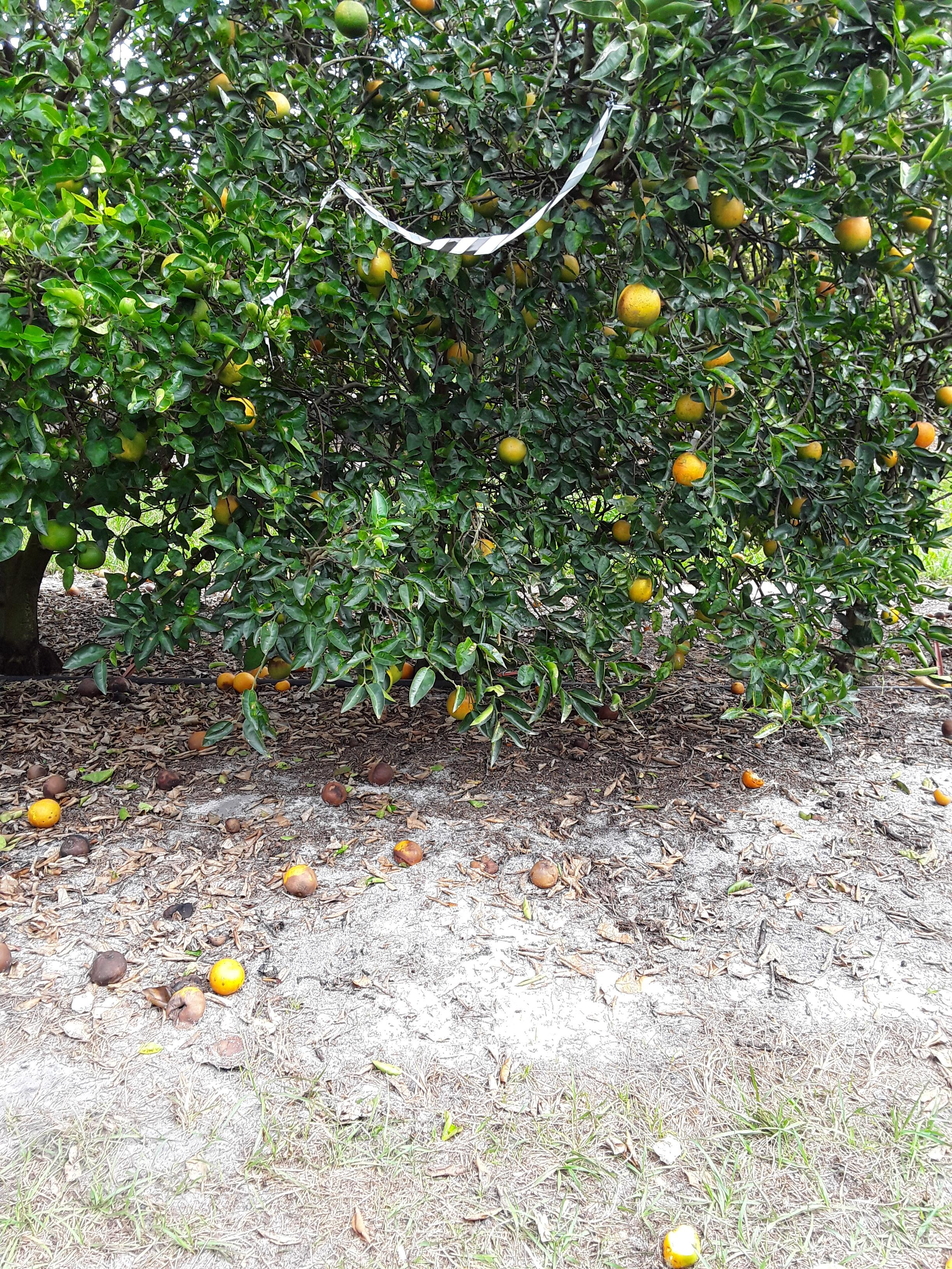fruit_on_ground: (614, 280, 663, 328), (161, 250, 211, 294), (354, 245, 396, 286), (831, 212, 873, 253), (331, 0, 373, 40), (797, 3, 845, 36), (48, 156, 88, 195), (708, 192, 747, 232), (462, 180, 503, 217), (220, 395, 258, 433), (670, 449, 709, 486), (108, 427, 148, 463), (215, 350, 255, 386), (41, 517, 80, 553), (209, 14, 249, 49), (879, 242, 917, 278), (355, 662, 394, 697), (252, 87, 289, 122), (898, 201, 936, 235), (461, 56, 498, 90), (212, 181, 249, 214), (445, 686, 479, 721), (408, 304, 444, 337), (673, 390, 708, 423), (693, 593, 730, 624), (748, 1, 802, 22), (705, 379, 739, 412), (211, 493, 245, 526), (698, 341, 734, 371), (362, 74, 395, 106), (505, 258, 538, 290), (496, 433, 528, 466), (552, 251, 583, 284), (74, 540, 107, 571), (621, 194, 655, 224), (524, 210, 558, 240), (754, 293, 785, 324), (905, 418, 936, 449), (444, 339, 476, 369), (206, 68, 238, 97), (418, 77, 447, 108), (689, 239, 716, 272), (661, 89, 691, 117), (809, 342, 840, 369), (786, 492, 814, 521), (627, 574, 655, 603), (520, 87, 550, 114), (794, 436, 824, 463), (567, 193, 599, 217), (265, 654, 292, 682), (410, 88, 439, 114), (302, 332, 329, 358), (679, 169, 707, 194), (308, 488, 336, 513), (812, 276, 840, 301), (876, 444, 902, 470), (472, 535, 499, 559), (610, 517, 634, 543), (517, 305, 541, 330), (455, 248, 483, 269), (623, 319, 647, 343), (877, 601, 902, 624), (382, 660, 404, 686), (424, 208, 448, 230), (933, 382, 952, 409), (802, 245, 824, 268), (836, 454, 859, 475), (667, 648, 688, 671), (598, 321, 622, 341), (70, 383, 92, 404), (395, 659, 415, 682), (407, 0, 437, 14), (760, 536, 780, 557), (388, 161, 407, 182), (727, 549, 747, 567), (674, 637, 694, 654), (737, 526, 756, 543), (527, 594, 546, 611), (273, 610, 290, 626)
fruit_on_tree: (659, 1221, 704, 1268), (166, 984, 207, 1025), (207, 956, 247, 997), (90, 949, 129, 987), (281, 862, 319, 899), (25, 797, 61, 829), (528, 857, 560, 890), (392, 838, 425, 867), (366, 759, 396, 787), (320, 780, 348, 808), (152, 767, 181, 792), (59, 836, 90, 858), (75, 675, 103, 699), (185, 728, 212, 752), (231, 669, 256, 694), (43, 772, 68, 795), (740, 767, 765, 790), (471, 854, 497, 876), (595, 702, 621, 722), (106, 687, 131, 706), (0, 939, 13, 975), (932, 784, 952, 807), (215, 669, 236, 690), (222, 815, 243, 834), (250, 662, 269, 682), (26, 762, 47, 780), (728, 678, 747, 696), (939, 715, 952, 739), (272, 676, 291, 692), (294, 661, 313, 674), (940, 1252, 952, 1269), (65, 584, 80, 597), (933, 611, 945, 620)
